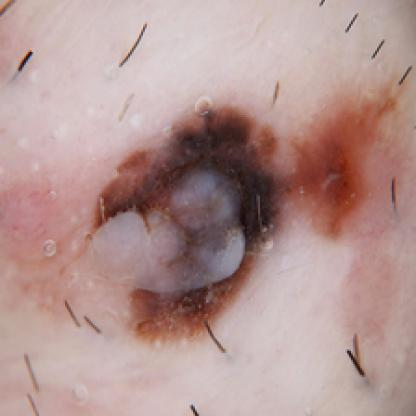Skin_Cancer-Malignant: (85, 82, 405, 348)
